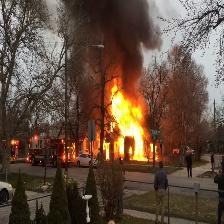fire: (85, 72, 161, 165)
